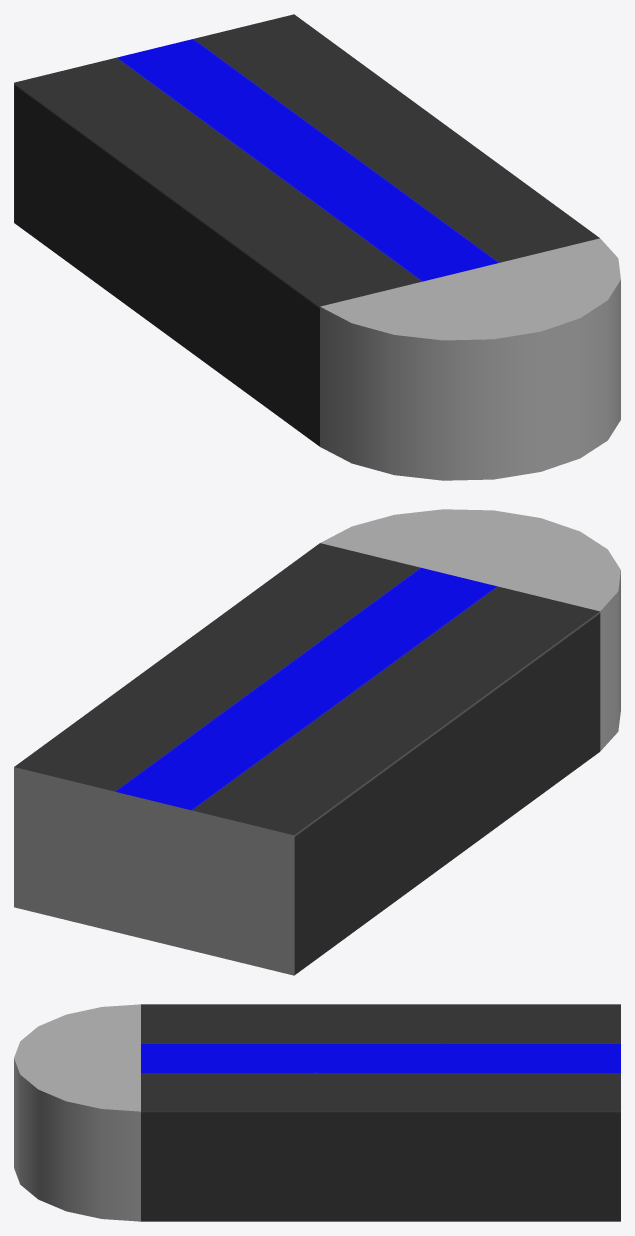
Rendered from enemy_eraser_05.glb.
The picture shows the model from 3 angles, top to bottom: view 1: azimuth 30°, elevation 25°; view 2: azimuth 150°, elevation 25°; view 3: azimuth 270°, elevation 25°; orthographic projection. The views are drawn at different scales.
Parts seen in each view (by area): view 1: obj1; view 2: obj1; view 3: obj1.
Boxes of the visible parts, box(x1,y1,x2,y2) form: obj1: box(14, 14, 620, 480); obj1: box(14, 509, 620, 975); obj1: box(14, 1004, 620, 1221).
Size of the model in its own units: 2.3 by 1.1 by 5.5.
1 material, 1 textured.
